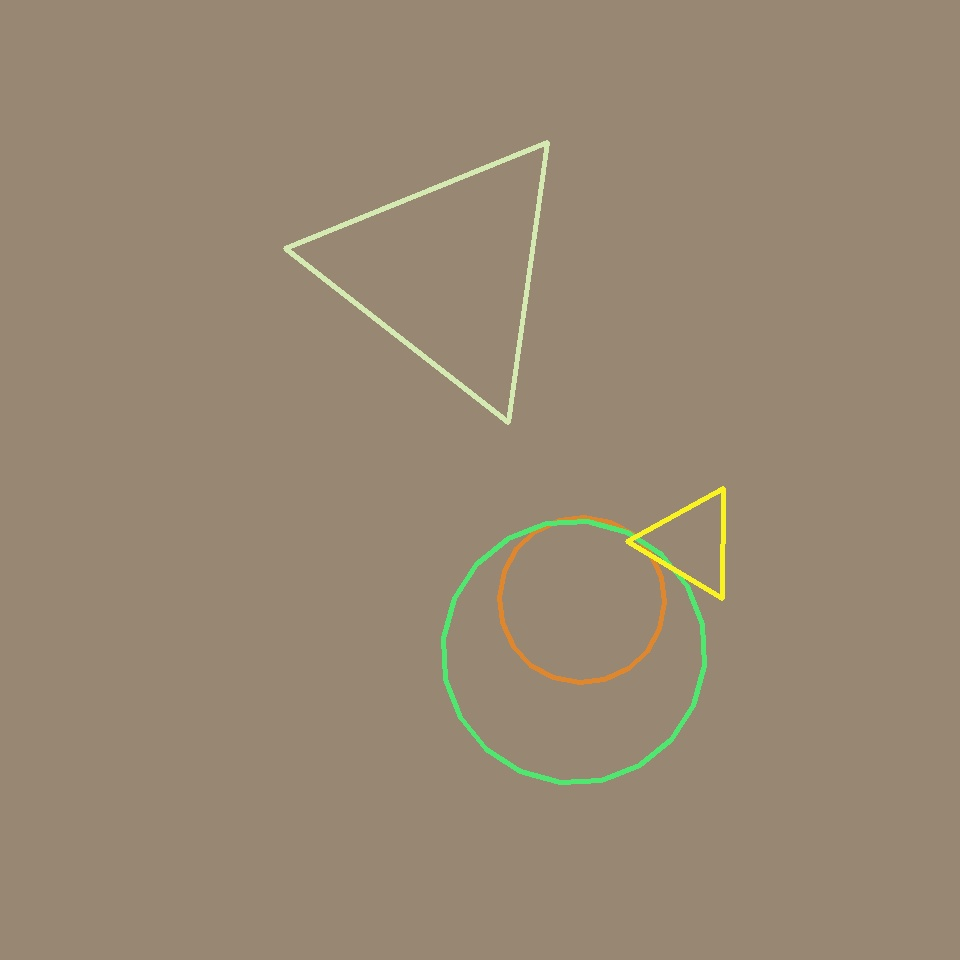circle: (316, 131, 578, 411), (643, 488, 739, 598)
triangle: (444, 522, 704, 783), (499, 518, 664, 682)
